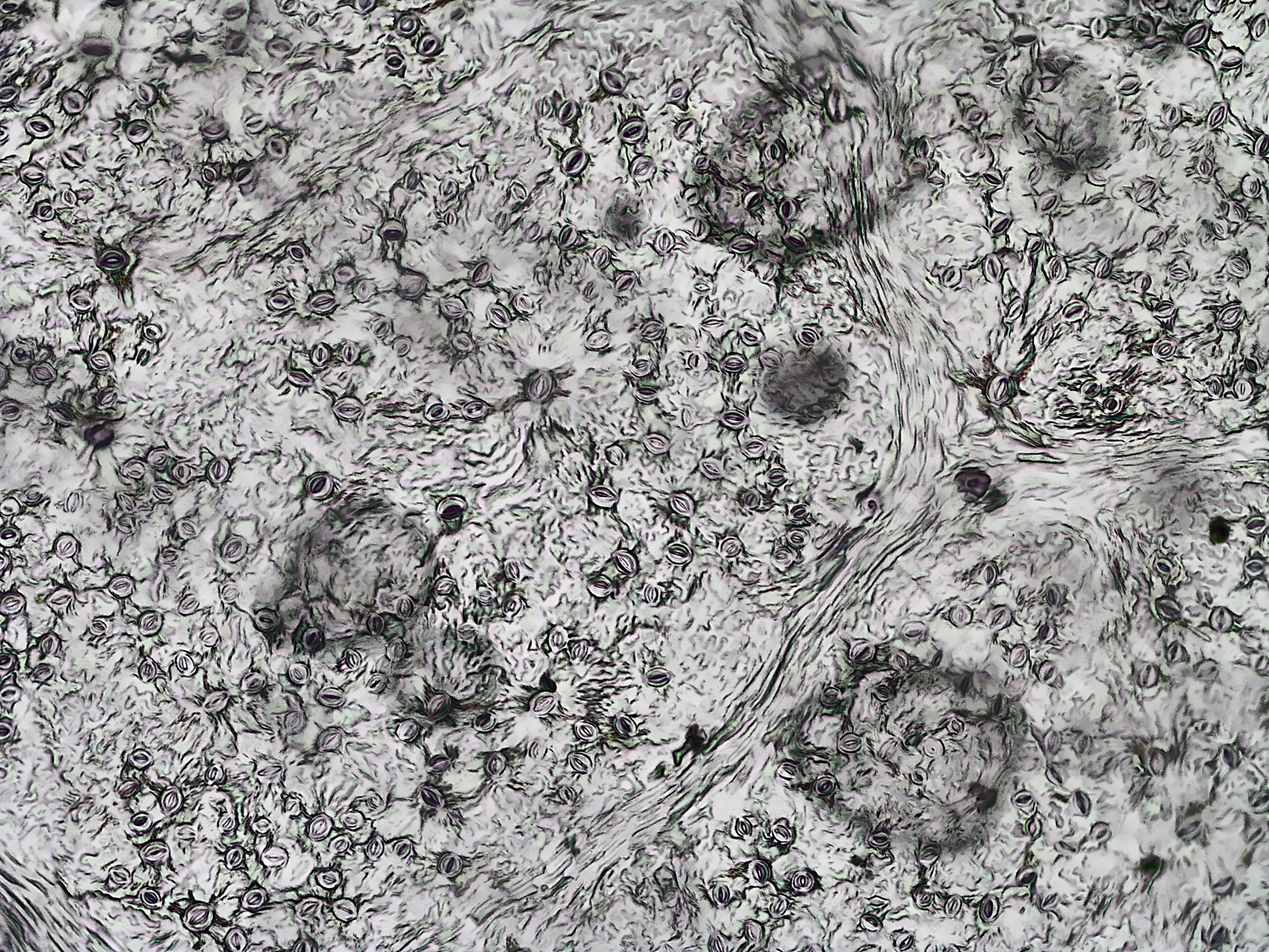stomata: (1143, 588, 1187, 630), (968, 545, 1008, 590), (522, 364, 562, 403), (594, 65, 641, 97), (611, 544, 649, 582), (808, 761, 840, 802), (983, 596, 1016, 635), (52, 518, 80, 562), (981, 212, 1025, 240), (1040, 578, 1078, 610), (811, 668, 842, 707), (827, 81, 855, 124), (1170, 811, 1208, 842), (866, 823, 901, 856), (527, 686, 565, 716), (1174, 16, 1212, 46), (976, 886, 1005, 925), (556, 144, 589, 178), (202, 454, 237, 486), (438, 489, 470, 524), (868, 676, 903, 708), (1067, 781, 1099, 816), (181, 897, 217, 927), (1007, 21, 1044, 50), (157, 781, 185, 819), (1214, 296, 1247, 328), (1040, 251, 1073, 283), (626, 154, 660, 185), (792, 322, 828, 351), (54, 90, 91, 118), (42, 581, 80, 608), (297, 621, 328, 654), (1160, 634, 1190, 668), (729, 813, 761, 844), (791, 865, 823, 896), (977, 369, 1011, 398), (99, 570, 134, 598), (305, 807, 333, 842), (903, 765, 942, 790), (132, 71, 159, 107), (257, 840, 293, 867), (140, 840, 177, 866), (569, 745, 598, 778), (1189, 150, 1218, 183), (223, 532, 251, 566), (1192, 657, 1226, 685), (331, 398, 369, 423), (586, 479, 621, 506), (1019, 805, 1045, 841), (241, 883, 272, 913), (100, 242, 129, 274), (648, 658, 680, 687), (861, 892, 883, 934), (308, 287, 342, 314), (310, 469, 340, 499), (1210, 603, 1235, 639), (59, 146, 93, 172), (554, 774, 589, 799), (1148, 334, 1183, 359), (918, 837, 953, 862), (1085, 824, 1123, 847), (549, 220, 578, 250), (424, 689, 452, 720), (918, 736, 949, 764), (201, 685, 233, 712), (1036, 188, 1068, 215), (882, 652, 923, 673), (468, 706, 507, 728), (711, 875, 734, 912), (738, 431, 767, 460), (329, 895, 359, 923), (980, 254, 1008, 284), (267, 31, 294, 62), (1114, 69, 1145, 96), (770, 818, 801, 845), (24, 111, 56, 137), (1154, 100, 1186, 126), (1138, 226, 1170, 252), (1201, 106, 1237, 129), (1145, 745, 1166, 784), (891, 926, 925, 950), (230, 158, 258, 187), (137, 608, 166, 636), (253, 607, 282, 635), (422, 781, 450, 810), (127, 114, 154, 144), (129, 808, 160, 834), (1058, 298, 1089, 324), (694, 450, 725, 476), (764, 463, 795, 489), (1033, 886, 1064, 912), (377, 217, 412, 240), (613, 705, 636, 740), (674, 118, 707, 142), (727, 232, 760, 256), (436, 296, 469, 320), (228, 924, 256, 952), (753, 855, 776, 889), (0, 587, 25, 618), (116, 773, 147, 798), (317, 726, 348, 751), (598, 440, 629, 465), (544, 623, 569, 654), (280, 707, 308, 734), (424, 399, 452, 426), (1133, 179, 1161, 206), (254, 757, 283, 783), (263, 135, 293, 160), (588, 323, 613, 353), (940, 264, 965, 294), (714, 533, 744, 558), (745, 915, 775, 940), (1242, 506, 1267, 536), (395, 711, 417, 745), (734, 321, 765, 345), (718, 407, 755, 427), (443, 849, 466, 881), (1022, 71, 1045, 103), (665, 538, 692, 565), (672, 490, 700, 516), (911, 136, 939, 162), (174, 589, 199, 618), (784, 227, 813, 252), (590, 577, 619, 602), (1010, 860, 1039, 885), (318, 682, 348, 706), (761, 136, 785, 166), (425, 747, 455, 771), (1138, 657, 1159, 691), (483, 756, 514, 779), (965, 104, 996, 127), (975, 68, 1012, 87), (197, 624, 223, 651), (665, 81, 692, 107), (223, 32, 251, 57), (106, 862, 134, 887), (978, 35, 1003, 63), (1031, 320, 1056, 348), (1103, 390, 1128, 418), (895, 618, 936, 635), (2, 399, 31, 423), (108, 512, 137, 536), (469, 156, 490, 189), (743, 483, 764, 516), (29, 361, 59, 384), (289, 894, 319, 917), (946, 710, 969, 740), (832, 731, 868, 750), (642, 432, 673, 454), (631, 352, 662, 374), (772, 760, 803, 782), (122, 750, 156, 770), (287, 364, 314, 389), (1241, 172, 1268, 197), (1053, 830, 1080, 855), (956, 603, 981, 630), (1224, 254, 1252, 278), (17, 164, 46, 187), (692, 215, 715, 244), (284, 238, 313, 261), (576, 718, 611, 737), (504, 554, 526, 584), (756, 347, 786, 369), (1249, 785, 1269, 818), (201, 118, 232, 139), (27, 663, 58, 684), (225, 842, 246, 873), (203, 763, 228, 789), (340, 804, 365, 830), (624, 113, 650, 138), (1089, 13, 1115, 38), (509, 295, 536, 319), (774, 544, 798, 571), (948, 883, 966, 919), (1036, 662, 1063, 686), (846, 643, 884, 660), (405, 162, 425, 194), (1150, 555, 1182, 575), (240, 671, 269, 693), (488, 299, 510, 328), (1247, 5, 1269, 34), (978, 169, 1007, 191), (1095, 253, 1117, 282), (385, 634, 406, 664), (173, 652, 199, 676), (317, 865, 343, 889), (575, 275, 599, 301), (390, 835, 413, 862), (655, 229, 678, 256), (1020, 234, 1047, 257), (338, 340, 360, 368), (120, 455, 148, 477), (643, 582, 671, 604), (911, 885, 933, 913), (89, 348, 118, 369), (112, 494, 137, 518), (287, 661, 312, 685), (1002, 296, 1026, 321), (1034, 623, 1064, 643), (1003, 648, 1033, 668), (177, 518, 203, 541), (23, 483, 46, 509), (364, 610, 387, 636), (1243, 129, 1269, 152), (633, 385, 668, 402), (1133, 18, 1160, 40), (1148, 298, 1181, 316), (698, 310, 725, 332), (462, 398, 493, 417), (385, 48, 409, 72), (469, 258, 493, 282), (721, 351, 745, 375), (72, 289, 98, 311), (0, 521, 22, 547), (556, 98, 578, 124), (786, 502, 812, 524), (434, 180, 461, 201), (451, 331, 478, 352), (503, 592, 524, 619), (1224, 201, 1257, 218), (595, 241, 615, 269), (1022, 162, 1050, 182), (140, 887, 164, 910), (770, 893, 794, 916), (1244, 552, 1268, 575), (1233, 374, 1252, 403), (40, 631, 65, 653), (2, 682, 27, 704), (285, 794, 306, 820), (693, 154, 719, 175), (1206, 367, 1223, 399), (1083, 167, 1110, 187), (451, 619, 479, 638), (1219, 50, 1247, 69), (1239, 352, 1262, 375), (0, 496, 25, 517), (739, 186, 764, 207), (616, 270, 637, 295), (788, 529, 813, 550), (1215, 874, 1244, 892), (267, 290, 294, 309), (223, 0, 246, 22), (423, 32, 445, 55), (213, 811, 236, 833), (30, 71, 54, 92), (50, 405, 74, 426), (310, 344, 331, 368), (99, 398, 125, 417), (398, 596, 417, 622), (688, 352, 714, 371), (680, 181, 702, 203), (160, 545, 183, 566), (778, 196, 799, 219), (393, 335, 414, 358), (641, 322, 671, 338), (32, 202, 58, 220), (1167, 260, 1193, 278), (396, 11, 418, 32), (330, 832, 350, 855), (365, 674, 388, 694), (0, 715, 17, 742), (152, 440, 169, 467), (172, 462, 191, 486), (1057, 403, 1081, 422), (1045, 761, 1069, 780), (151, 487, 181, 502), (367, 835, 384, 861), (333, 265, 359, 282), (176, 820, 197, 841), (0, 84, 23, 103), (507, 185, 532, 202), (372, 313, 389, 338), (219, 585, 239, 606), (0, 649, 19, 671), (252, 816, 274, 835), (474, 584, 497, 602), (1012, 790, 1039, 805), (354, 0, 379, 16), (679, 403, 695, 428), (143, 320, 164, 339), (345, 648, 363, 670), (60, 492, 77, 515), (435, 577, 461, 592), (1208, 220, 1232, 236), (1077, 377, 1097, 396), (135, 347, 156, 364), (307, 10, 325, 29), (279, 0, 300, 16), (695, 279, 717, 293), (63, 187, 78, 207), (573, 641, 588, 661), (200, 165, 214, 186), (142, 659, 155, 680), (444, 206, 457, 227), (92, 619, 109, 634), (243, 114, 268, 124)
